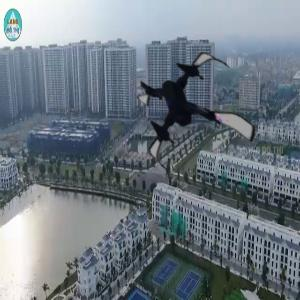drone: (130, 50, 261, 181)
